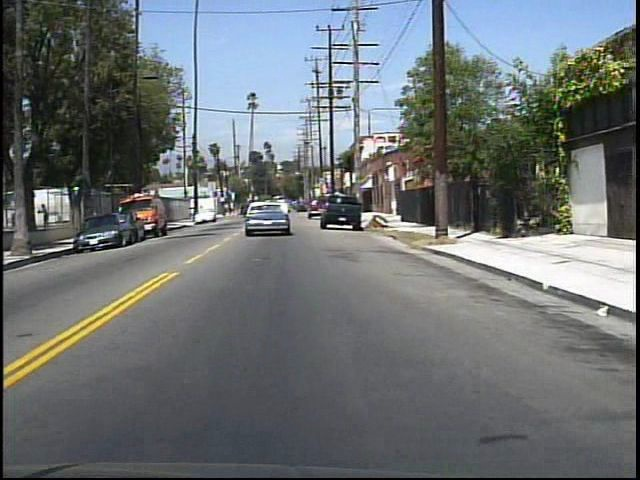person: (39, 202, 53, 230)
